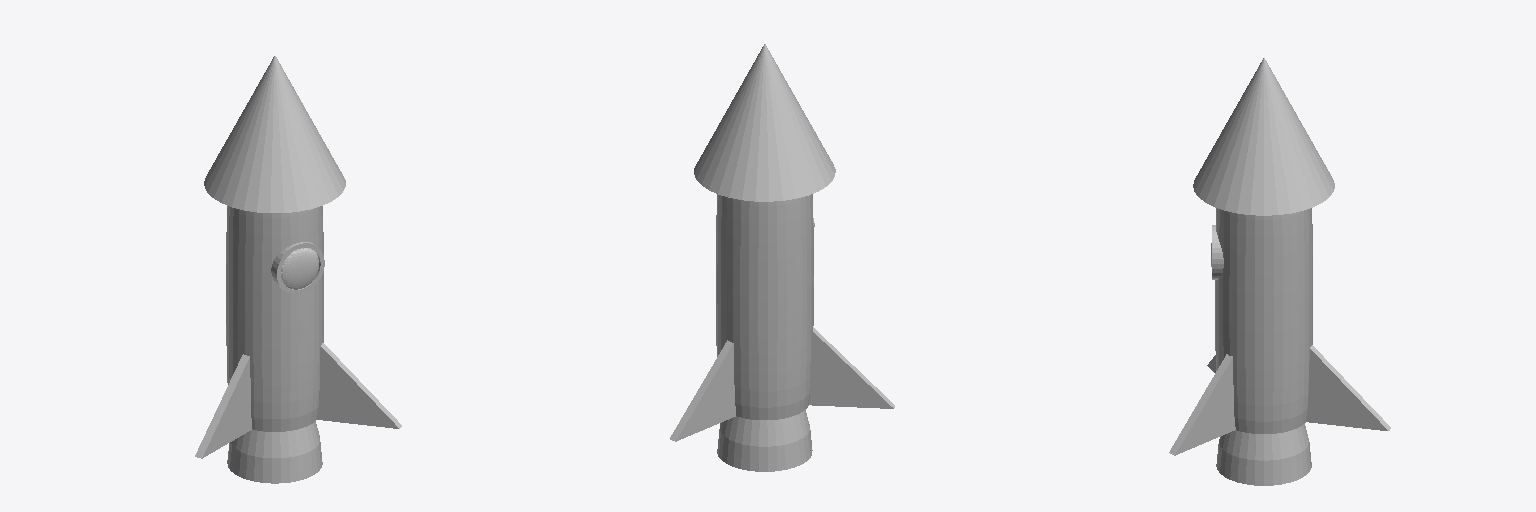
The model's file is ROCKET.obj.
3 renders of one model, left to right at view 1: azimuth 30°, elevation 25°; view 2: azimuth 150°, elevation 25°; view 3: azimuth 270°, elevation 25°, orthographic.
Visible parts, largest first — view 1: Cube; view 2: Cube; view 3: Cube.
Boxes of the visible parts, x1,y1,x2,y2 form: Cube: [195, 56, 401, 483]; Cube: [670, 44, 894, 471]; Cube: [1169, 58, 1390, 485].
Bounding box in the file's own units: 1.98 × 4.12 × 2.03.